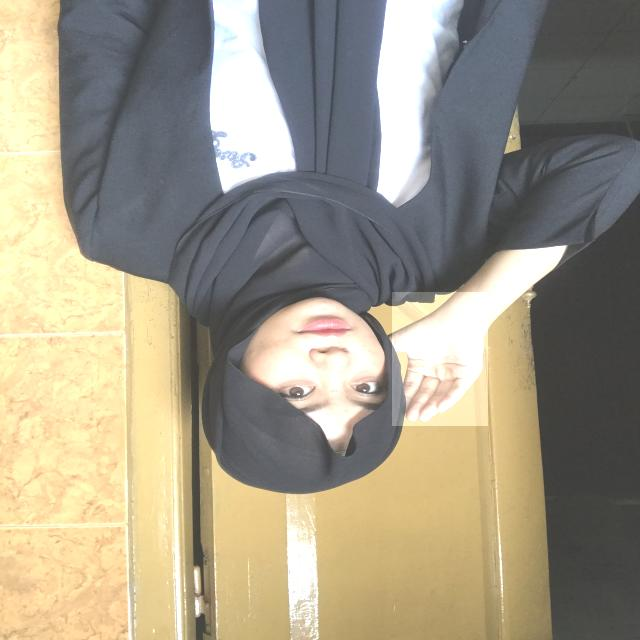mendengar: (392, 292, 488, 426)
